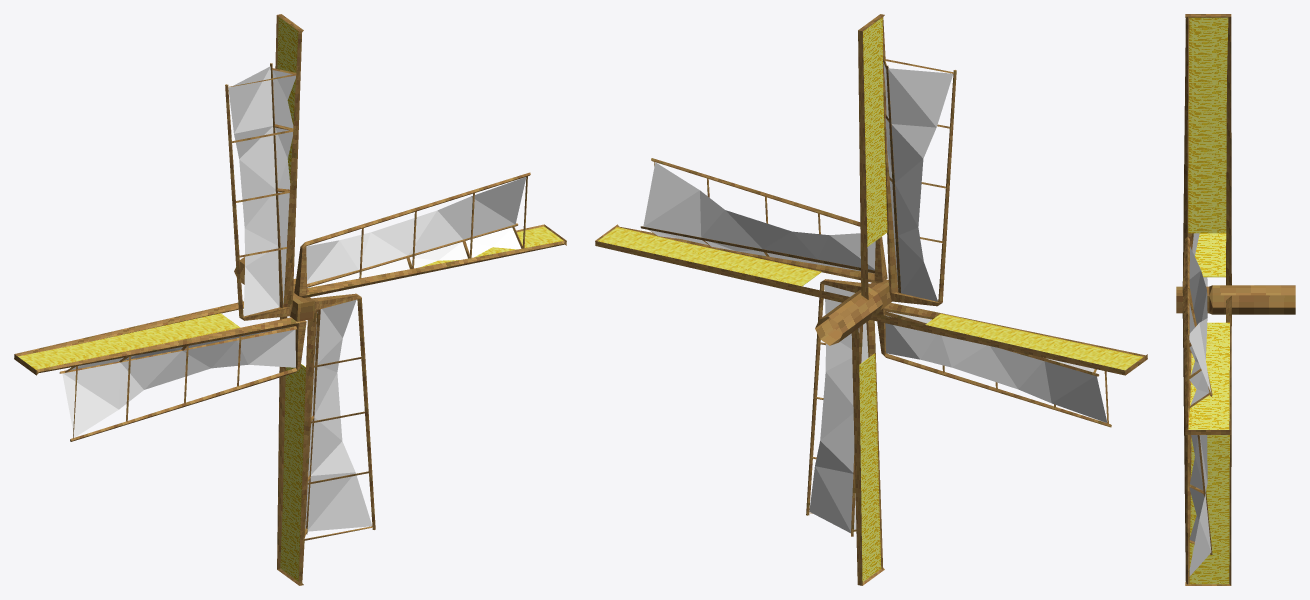
File: bigwindmill_Low_Poly.obj
The picture shows the model from 3 angles, left to right: view 1: azimuth 30°, elevation 25°; view 2: azimuth 150°, elevation 25°; view 3: azimuth 270°, elevation 25°; orthographic projection. The views are drawn at different scales.
Parts seen in each view (by area): view 1: BladesJoined_n0b0.005; view 2: BladesJoined_n0b0.005; view 3: BladesJoined_n0b0.005.
Boxes of the visible parts, x1=… form: BladesJoined_n0b0.005: x1=14, y1=14, x2=566, y2=585; BladesJoined_n0b0.005: x1=595, y1=14, x2=1147, y2=585; BladesJoined_n0b0.005: x1=1176, y1=14, x2=1295, y2=585.
Bounding box in the file's own units: 4.73 × 4.73 × 0.9.
